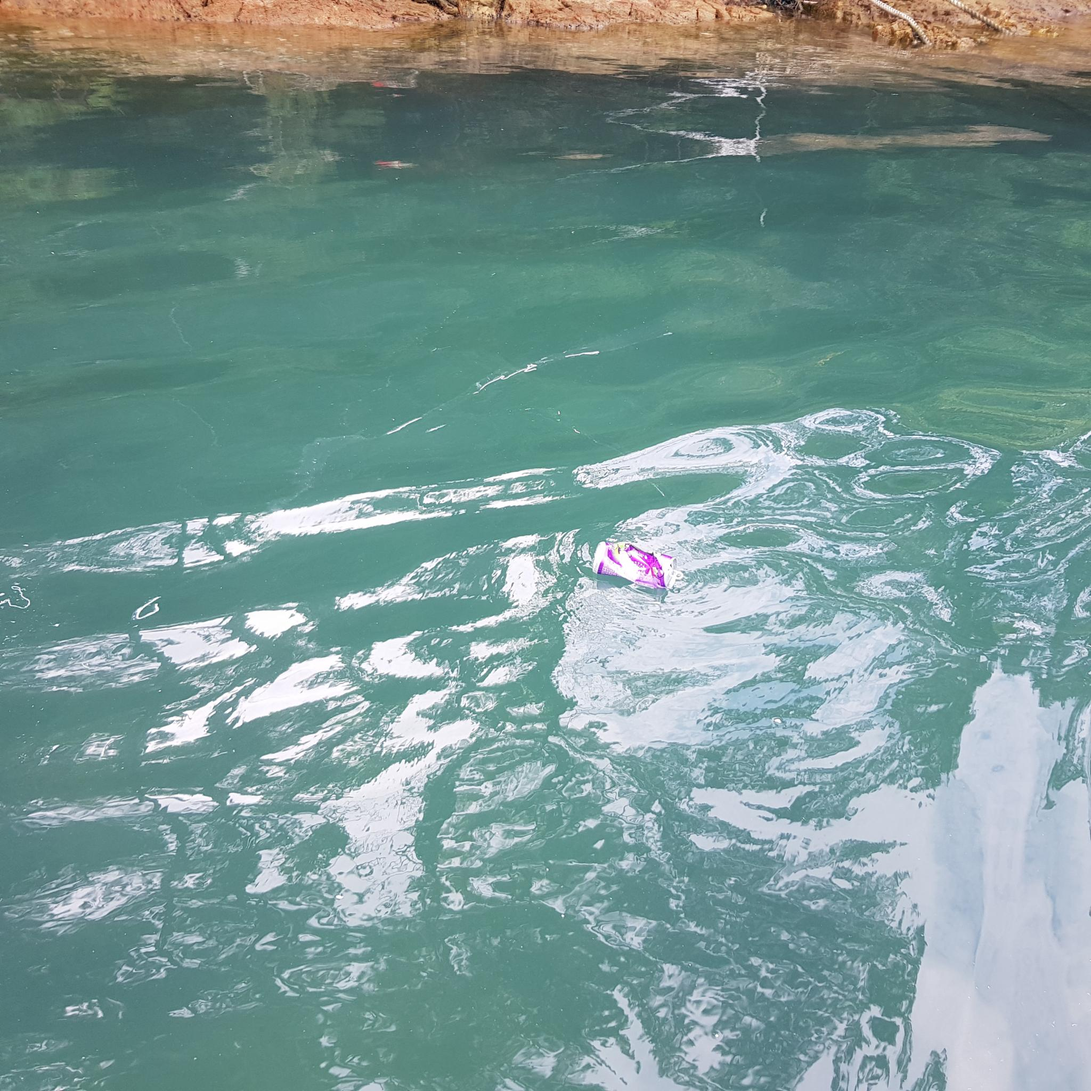sampah_terapung: (593, 541, 684, 590)
